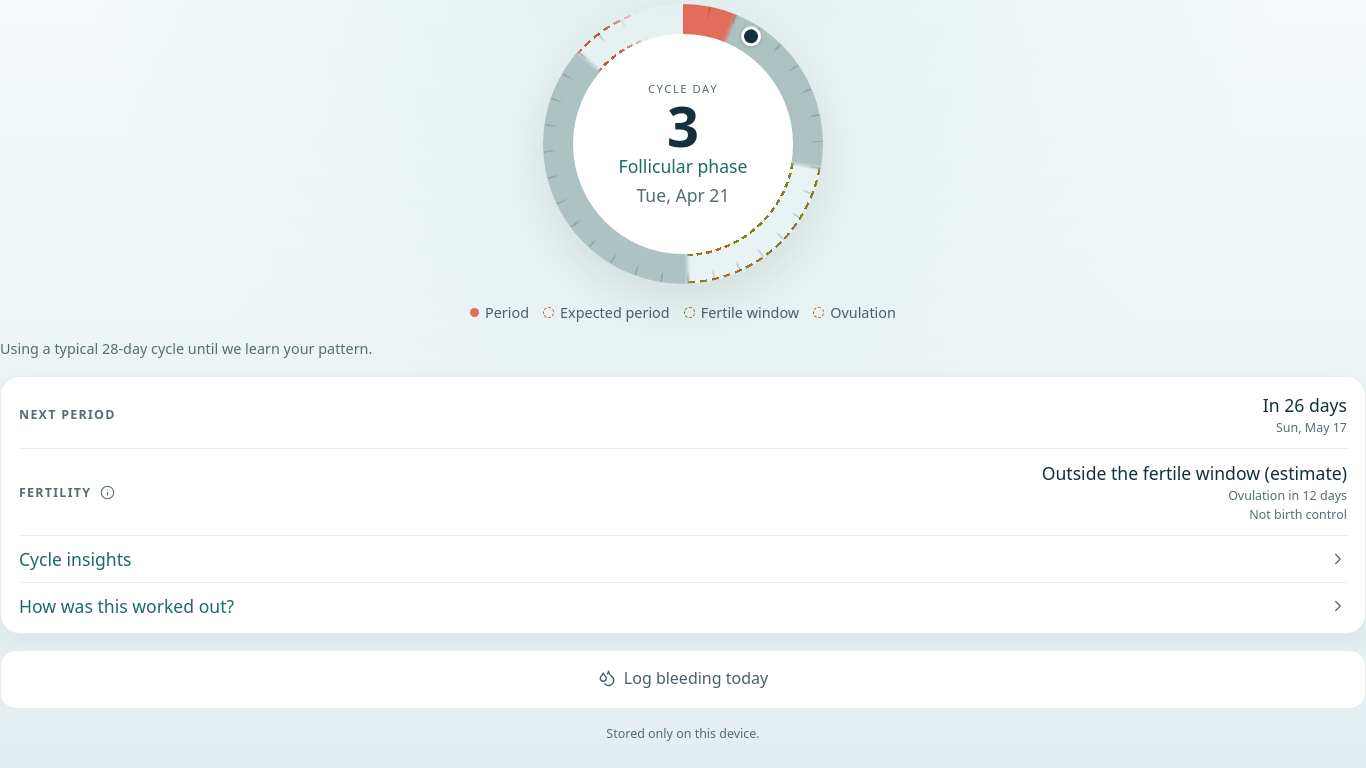
Scenario: ForecastExplainer › names the 28-day default before a full cycle
Click the button "How was this worked out?": click(127, 606) x1=19 y1=582 x2=1347 y2=629
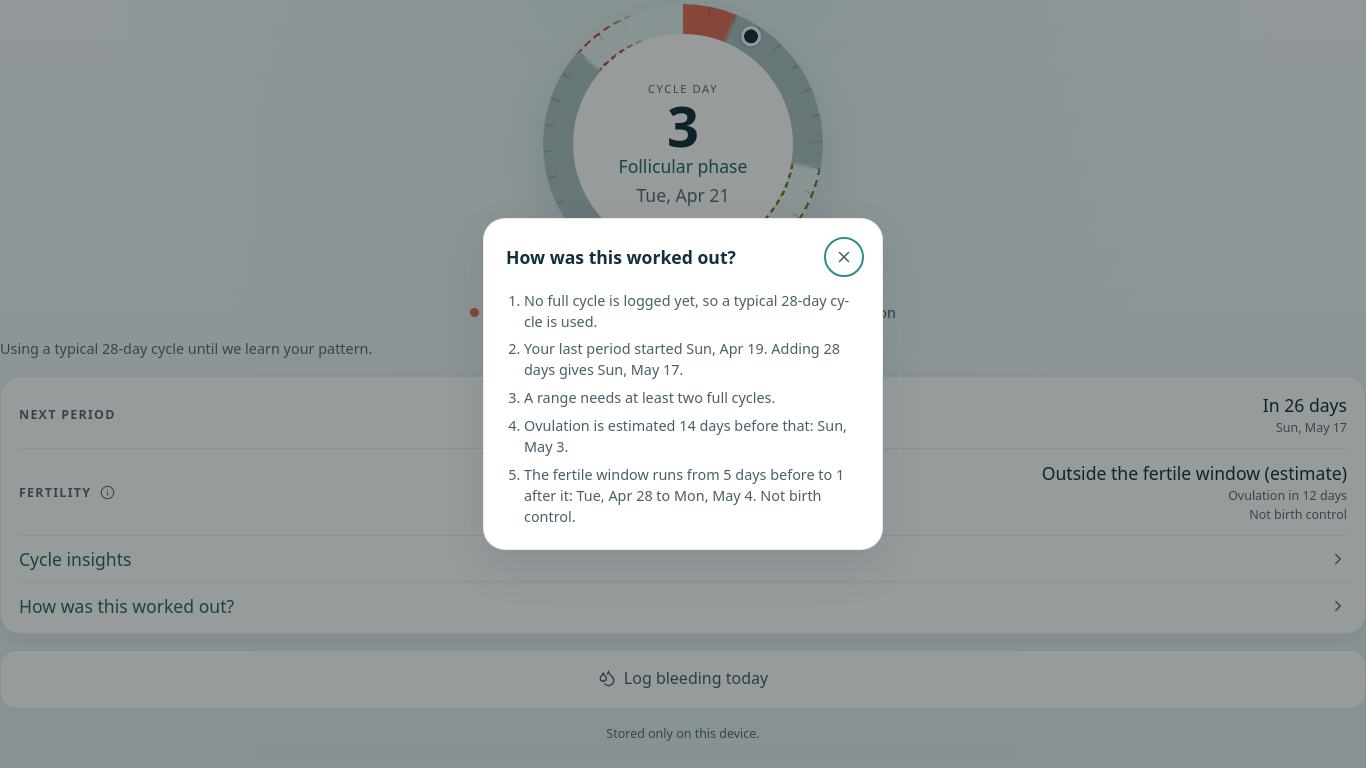
Expected: the list item "typical 28-day cycle" is shown, x1=524 y1=291 x2=849 y2=330
